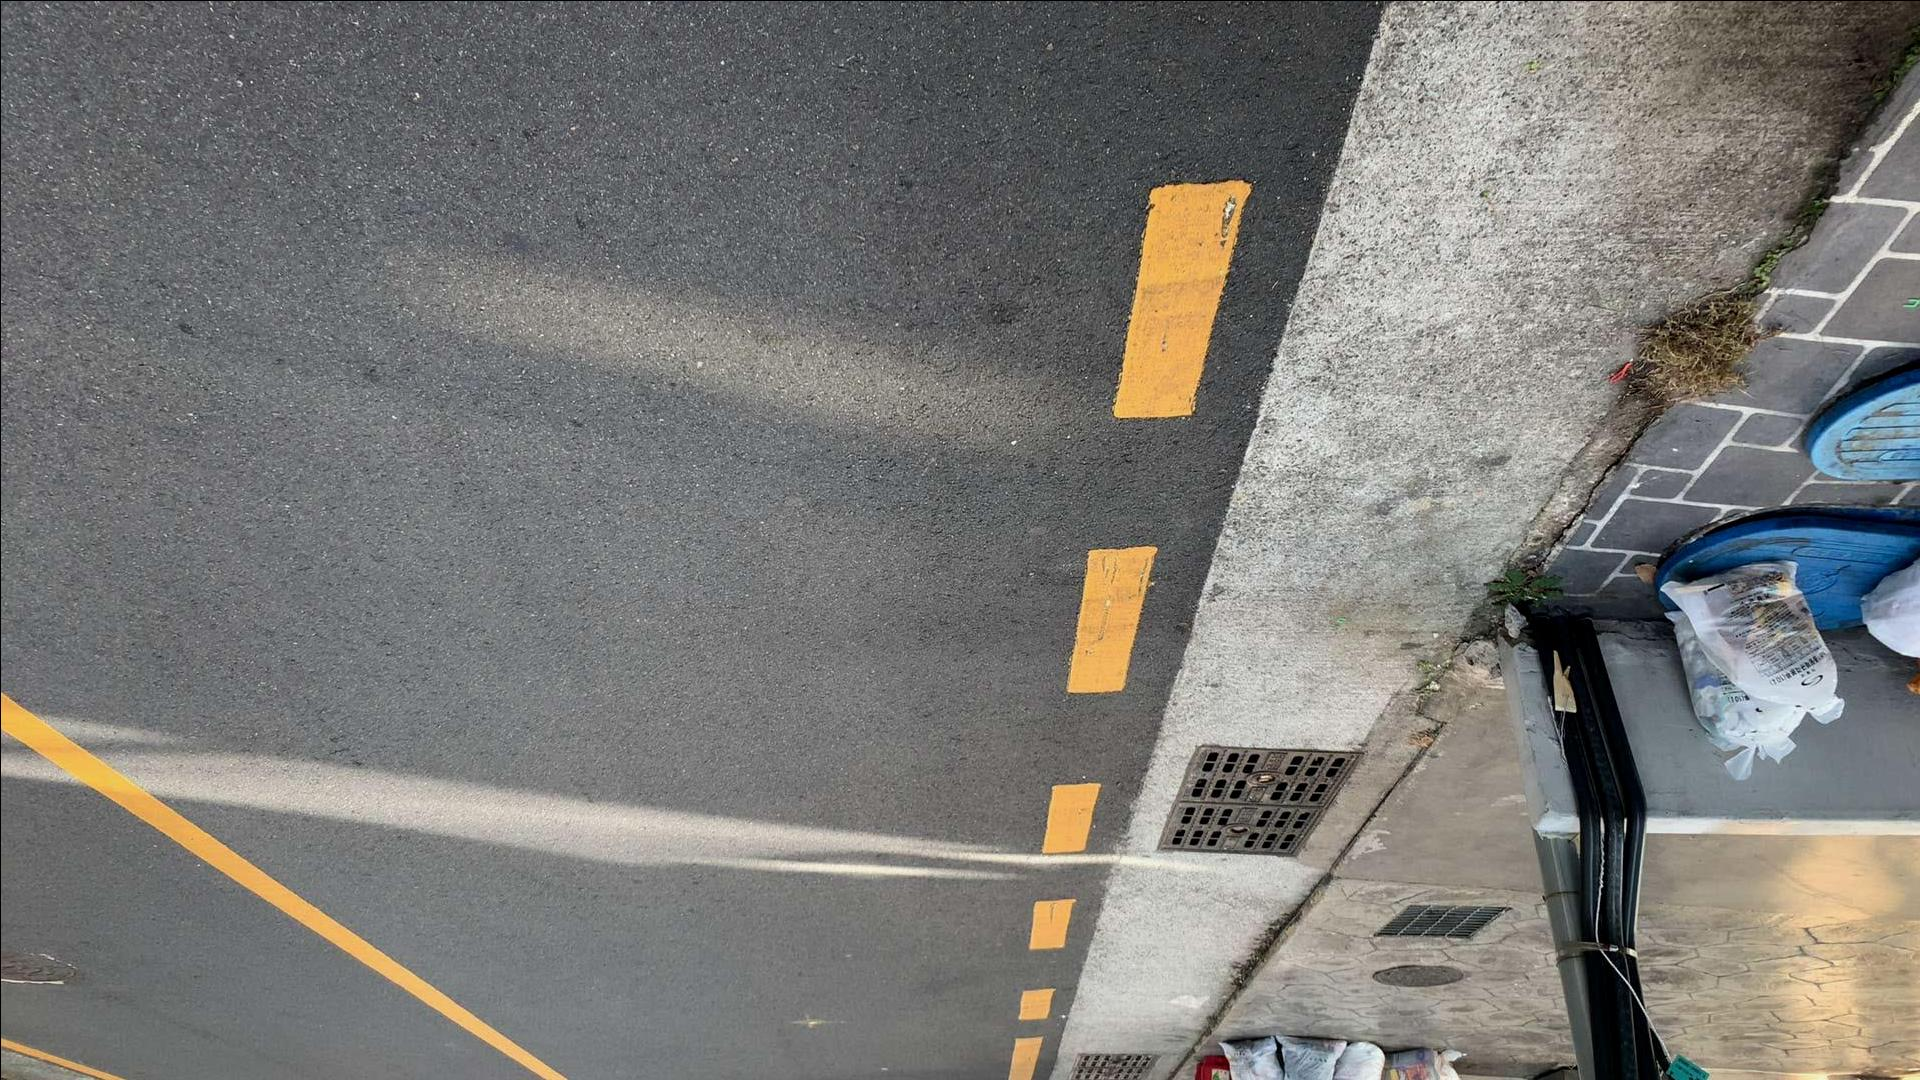white_bag: (1655, 555, 1847, 727), (1660, 603, 1808, 785)
